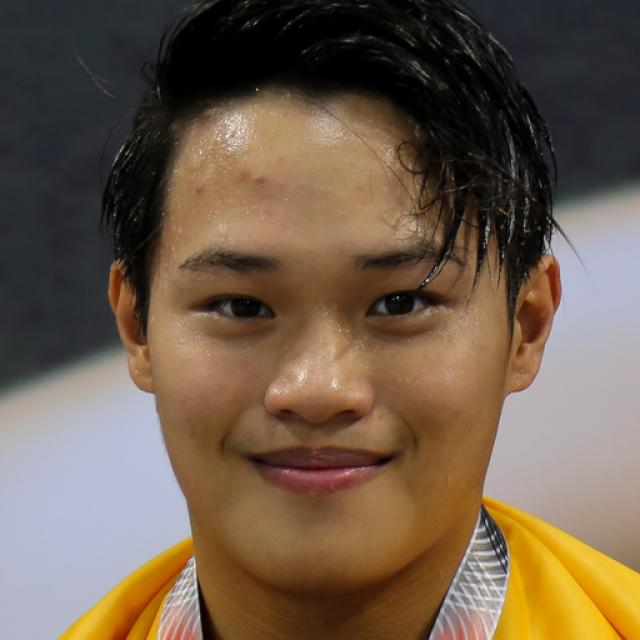Acne: (246, 170, 270, 189)
